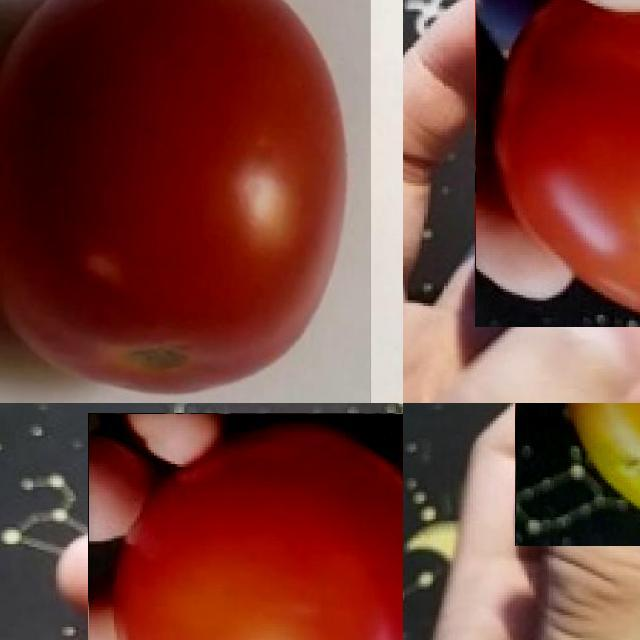Fresh Tomato: (0, 0, 371, 403), (88, 413, 403, 640), (475, 0, 640, 327)
Rotten Tomato: (515, 403, 640, 546)
